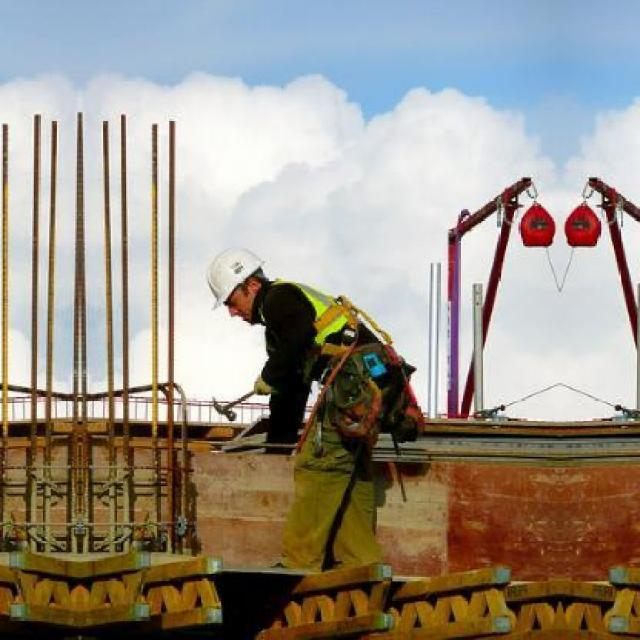reflective_jacket: (249, 272, 418, 450)
safety_helmet: (197, 238, 274, 313)
